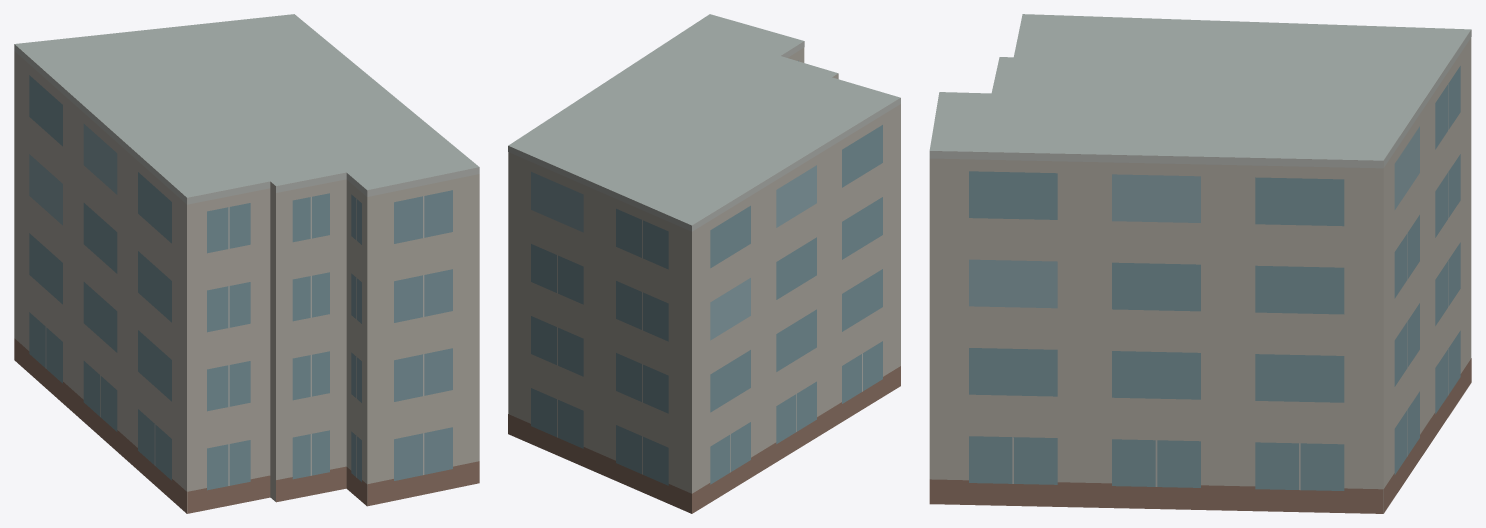
The model's file is survey-upis-32585233.glb.
3 views of the same model, side by side, from view 1: azimuth 30°, elevation 25°; view 2: azimuth 150°, elevation 25°; view 3: azimuth 270°, elevation 25° (orthographic). The views are drawn at different scales.
Visible parts, largest first — view 1: survey-upis-32585233.tmp; view 2: survey-upis-32585233.tmp; view 3: survey-upis-32585233.tmp.
Boxes of the visible parts, <box> form: survey-upis-32585233.tmp: <box>14,14,479,513</box>; survey-upis-32585233.tmp: <box>508,14,900,513</box>; survey-upis-32585233.tmp: <box>929,14,1471,513</box>.
Bounding box in the file's own units: 10.03 × 11.25 × 15.65.
